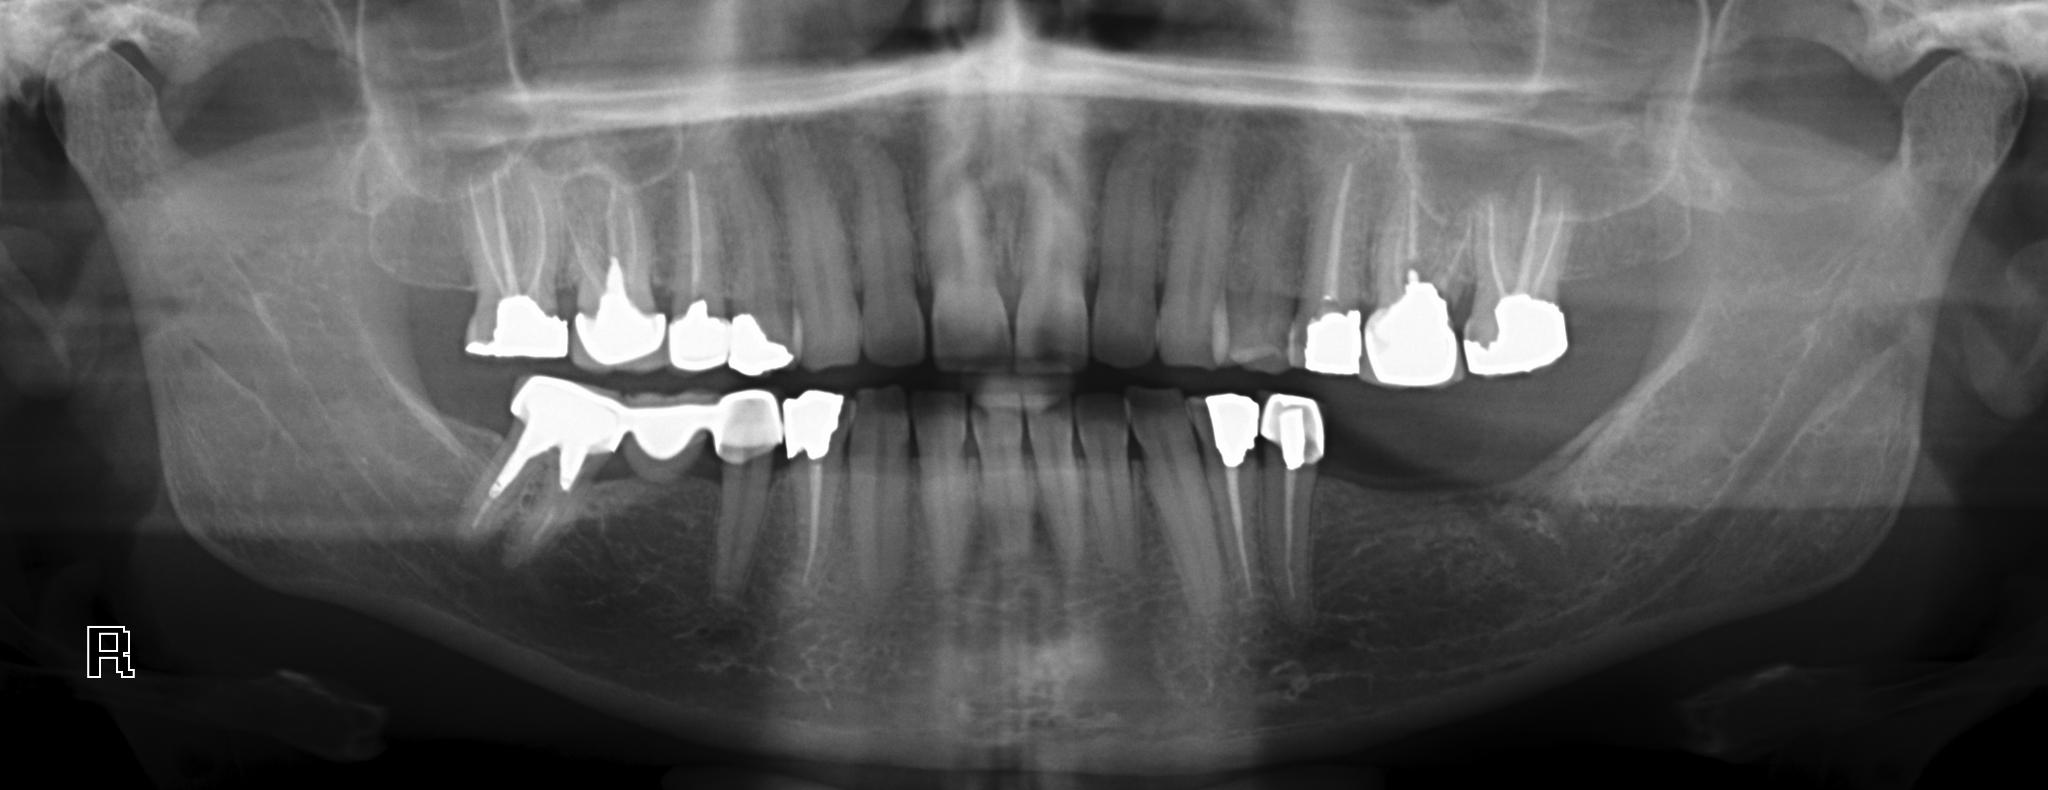Fillings: (699, 388, 792, 602), (726, 169, 798, 377)
Implant: (448, 373, 630, 560), (1458, 170, 1588, 390), (450, 158, 571, 373), (1364, 159, 1464, 395), (563, 165, 668, 373), (1292, 147, 1371, 386), (1258, 390, 1331, 621), (781, 386, 853, 605)
